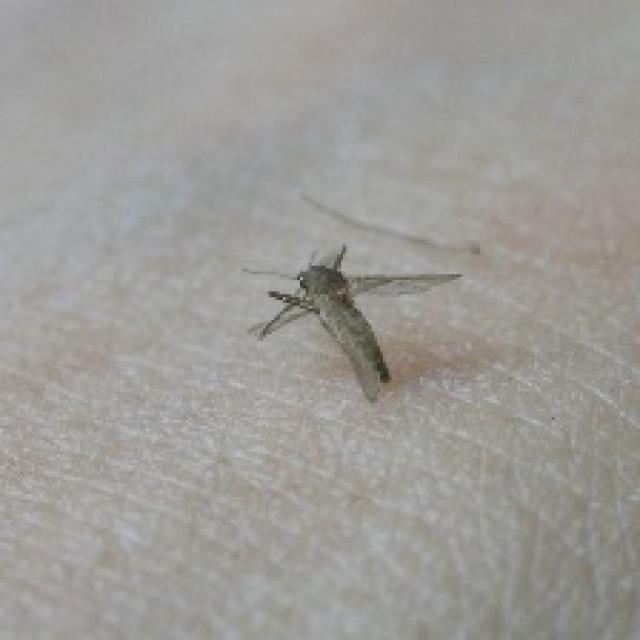culex: (240, 240, 460, 403)
